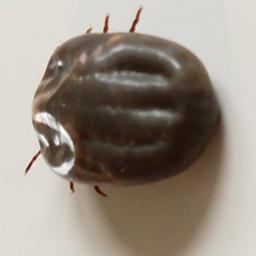Rhipicephalus sanguineus: (24, 5, 216, 198)
